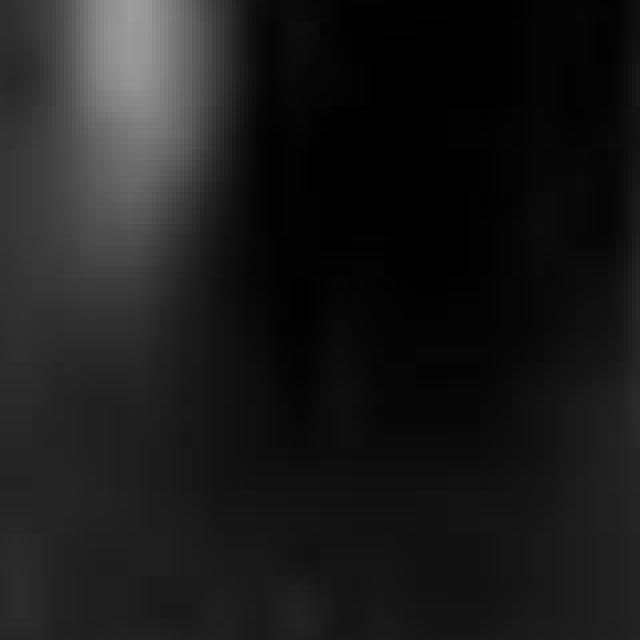person: (53, 1, 233, 241)
